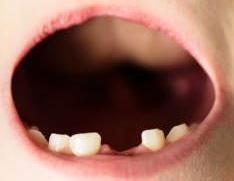Hypodontia: (95, 130, 153, 154)
